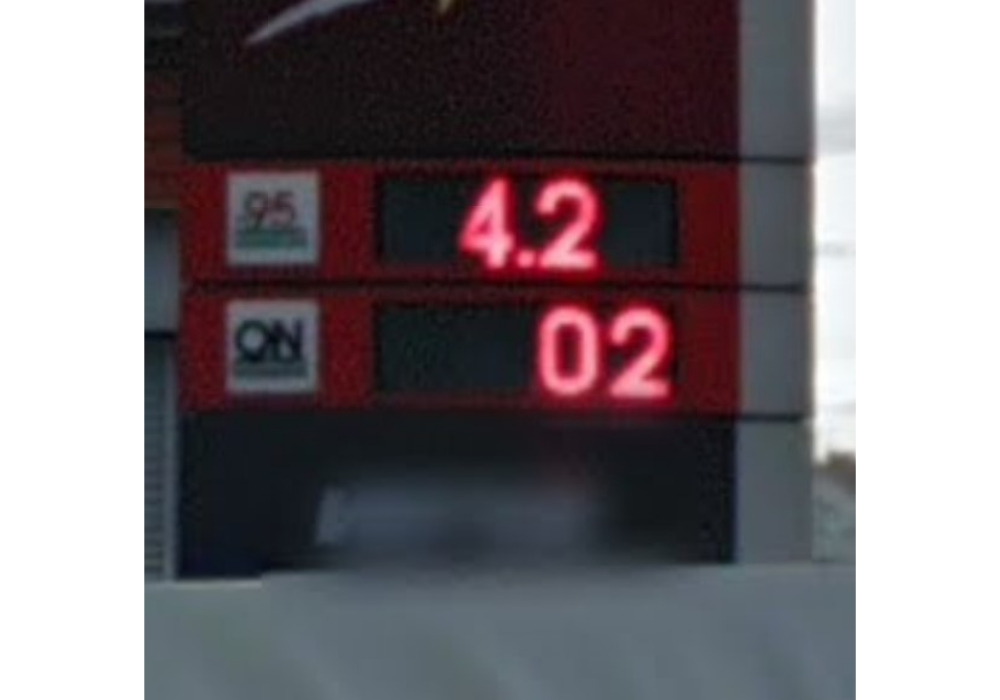ON: (226, 292, 319, 395)
PB95: (225, 171, 320, 267)
